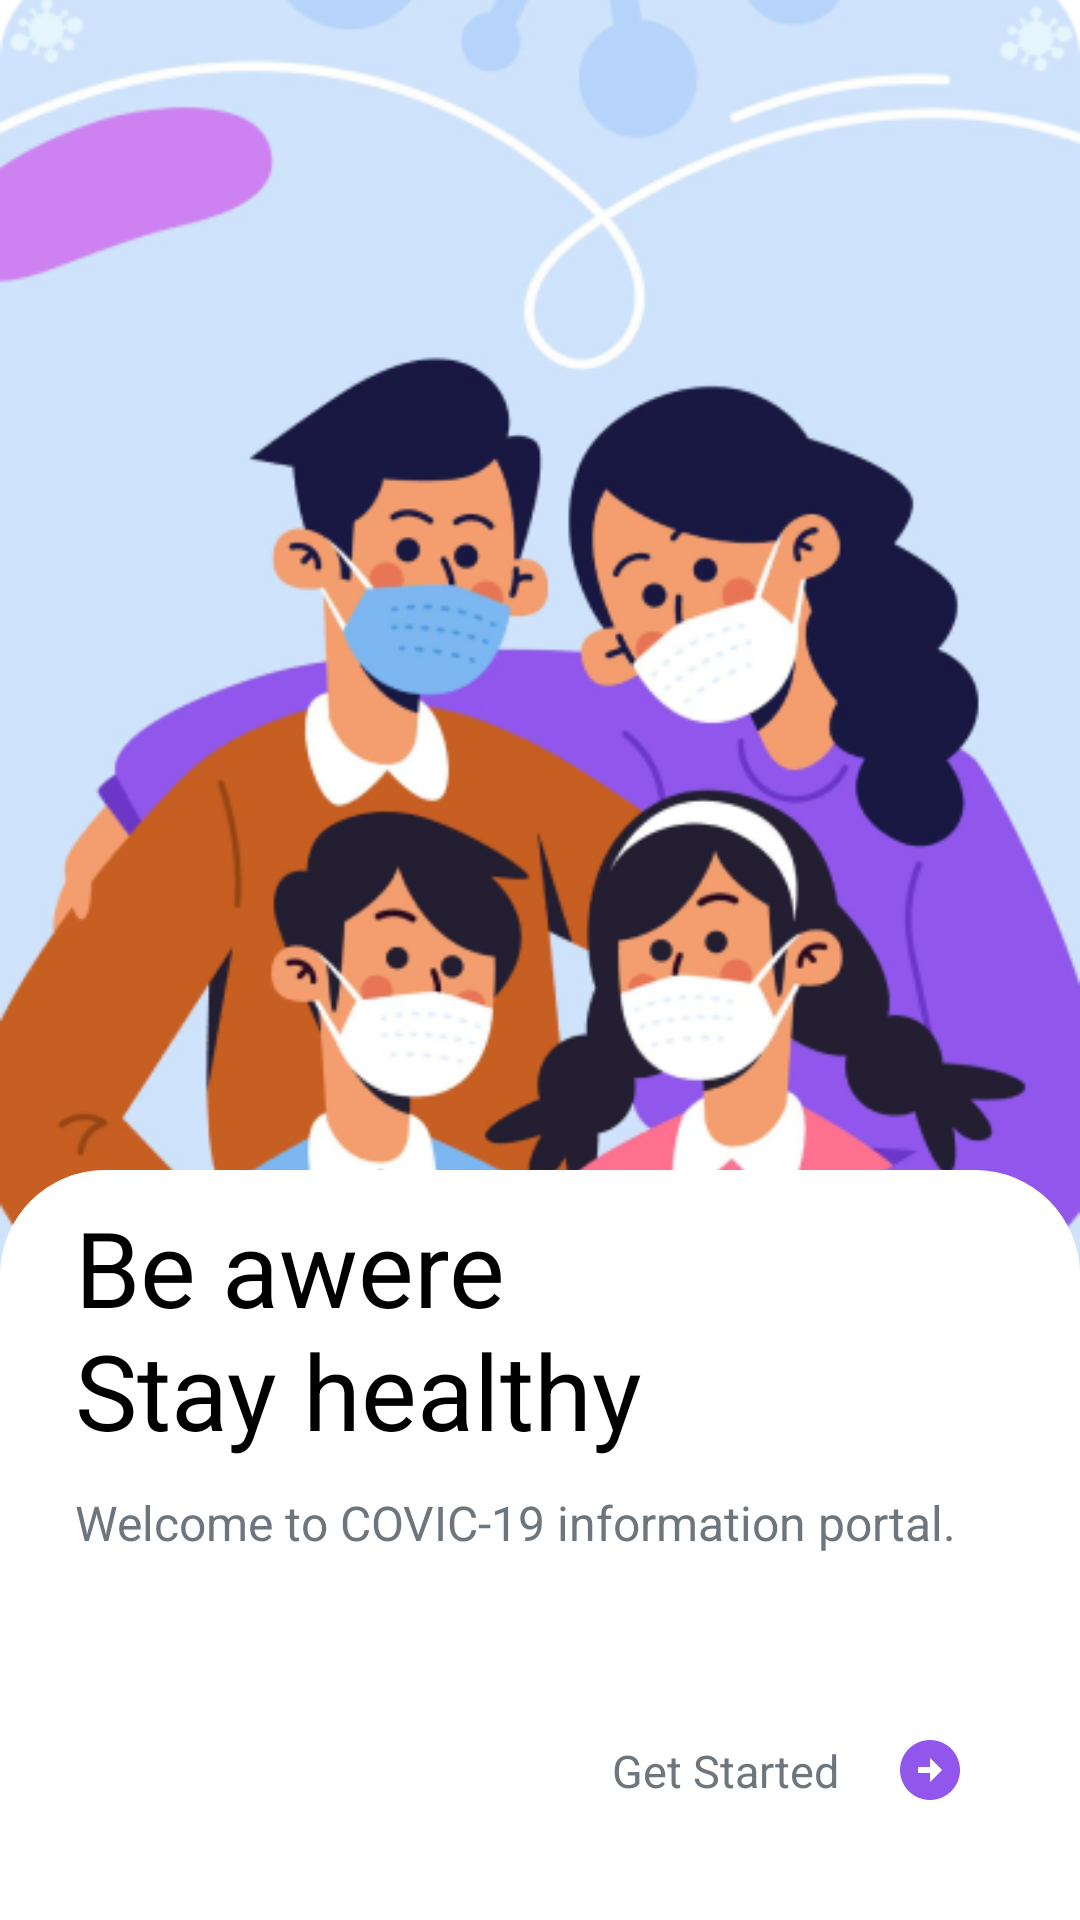

Icon click points for this 1080px×1920px phone screenshot, format (x=x, y=y):
arrow forward: (x=930, y=1770)
